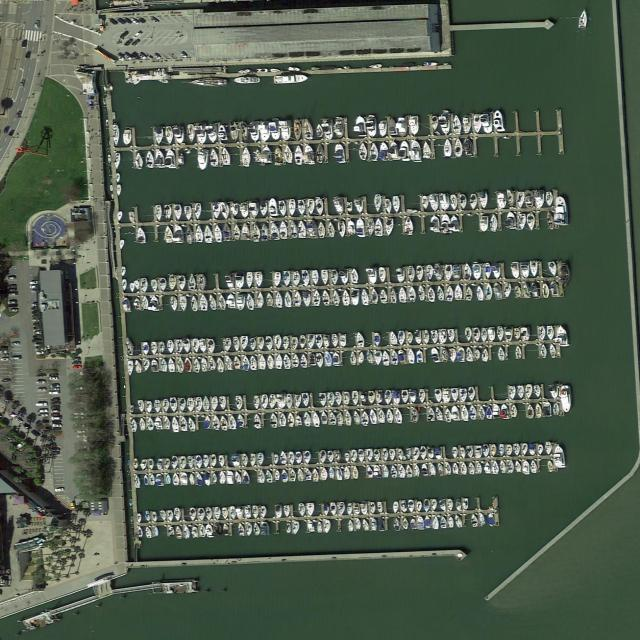ship: (553, 196, 569, 226), (273, 74, 309, 86), (189, 77, 227, 88), (560, 386, 572, 413), (560, 263, 572, 287), (279, 120, 292, 142), (354, 115, 367, 137), (409, 140, 422, 162), (366, 115, 378, 138), (554, 445, 566, 468), (481, 113, 494, 134), (302, 144, 315, 165), (396, 117, 409, 138), (195, 124, 208, 145), (399, 141, 411, 163), (323, 118, 335, 140), (198, 149, 210, 171), (269, 119, 281, 141), (557, 326, 569, 347), (259, 121, 271, 142), (494, 110, 505, 132), (303, 118, 314, 140), (440, 114, 451, 136), (240, 121, 251, 143), (124, 336, 136, 356), (207, 123, 219, 143), (334, 119, 345, 140), (111, 124, 121, 147), (524, 190, 536, 209), (173, 125, 185, 144), (578, 9, 590, 28), (334, 143, 345, 163), (409, 116, 420, 136), (249, 122, 260, 142), (233, 76, 260, 84), (441, 213, 451, 234), (526, 212, 537, 231), (379, 141, 390, 160), (334, 197, 345, 216), (404, 216, 414, 236), (167, 149, 177, 169), (506, 212, 517, 230), (449, 215, 460, 233), (429, 194, 440, 212), (440, 193, 451, 211), (463, 138, 474, 156), (535, 190, 545, 209), (472, 115, 482, 134), (454, 138, 464, 157), (154, 126, 164, 145), (316, 143, 325, 164), (293, 120, 302, 141), (433, 264, 444, 281), (516, 191, 526, 209), (463, 116, 473, 134), (356, 218, 365, 238), (430, 215, 440, 233), (422, 141, 432, 159), (390, 142, 400, 160), (369, 143, 379, 161), (493, 282, 503, 300), (235, 271, 245, 289), (203, 226, 213, 244), (209, 149, 219, 167), (186, 125, 196, 143), (229, 123, 239, 141), (479, 192, 490, 208), (297, 199, 308, 215), (281, 354, 292, 370), (546, 211, 555, 230), (373, 194, 382, 213), (385, 218, 394, 237), (453, 116, 462, 135), (269, 198, 278, 217), (165, 126, 174, 145), (545, 191, 555, 208), (506, 191, 516, 208), (388, 118, 398, 135), (521, 261, 531, 278), (308, 221, 318, 238), (174, 226, 184, 243), (221, 202, 231, 219), (134, 153, 144, 170), (225, 273, 235, 290), (314, 352, 324, 369), (301, 270, 311, 287), (295, 145, 303, 166), (233, 396, 245, 410), (300, 392, 311, 407), (248, 203, 259, 218), (149, 296, 160, 311), (375, 218, 384, 236), (284, 145, 293, 163), (443, 140, 452, 158), (359, 143, 368, 161), (530, 260, 539, 278), (279, 221, 288, 239), (214, 225, 223, 243), (165, 225, 174, 243), (246, 293, 255, 311), (497, 193, 507, 209), (469, 194, 479, 210), (458, 194, 468, 210), (378, 121, 388, 137), (548, 261, 558, 277), (492, 263, 502, 279), (472, 264, 482, 280), (452, 265, 462, 281), (368, 268, 378, 284), (239, 203, 249, 219), (242, 148, 250, 168), (155, 151, 165, 167), (262, 147, 272, 163), (431, 347, 441, 363), (518, 213, 527, 230), (278, 200, 287, 217), (298, 221, 307, 238), (321, 289, 330, 306), (378, 267, 387, 284), (241, 223, 250, 240), (222, 224, 231, 241), (185, 226, 194, 243), (188, 274, 197, 291), (237, 294, 246, 311), (173, 204, 182, 221), (123, 129, 132, 146), (171, 416, 180, 433), (283, 271, 292, 288), (451, 405, 460, 422), (275, 147, 283, 166), (355, 199, 365, 214), (550, 281, 560, 296), (521, 327, 531, 342), (226, 293, 236, 308), (186, 397, 196, 412), (187, 417, 197, 432), (206, 339, 216, 354), (302, 291, 312, 306), (398, 349, 408, 364), (480, 216, 489, 232), (347, 219, 356, 235), (408, 265, 416, 283), (397, 267, 406, 283), (311, 270, 320, 286), (288, 199, 296, 217), (315, 199, 324, 215), (252, 224, 260, 242), (352, 288, 360, 306), (208, 294, 217, 310), (198, 275, 207, 291), (164, 204, 173, 220), (137, 228, 146, 244), (440, 347, 449, 363), (397, 330, 406, 346), (394, 409, 403, 425), (260, 521, 270, 535), (490, 215, 498, 232), (338, 221, 346, 238), (393, 196, 401, 213), (450, 194, 458, 211), (512, 261, 520, 278), (444, 264, 452, 281), (362, 289, 370, 306), (343, 289, 351, 306), (195, 225, 203, 242), (123, 296, 131, 313), (146, 151, 154, 168), (222, 148, 230, 165), (217, 357, 225, 374), (543, 401, 551, 418), (430, 116, 439, 131), (425, 265, 434, 280), (449, 348, 458, 363), (321, 270, 330, 285), (307, 199, 316, 214), (261, 224, 270, 239), (199, 296, 208, 311), (179, 296, 188, 311), (184, 206, 193, 221), (218, 125, 227, 140), (265, 336, 274, 351), (257, 336, 266, 351), (307, 334, 316, 349), (315, 334, 324, 349), (323, 351, 332, 366), (253, 414, 262, 429), (175, 339, 184, 354), (183, 339, 192, 354), (232, 337, 241, 352), (266, 354, 275, 369), (173, 507, 182, 522), (439, 329, 448, 344), (356, 332, 365, 347), (414, 330, 423, 345), (468, 404, 477, 419), (285, 393, 293, 409), (328, 221, 336, 237), (318, 222, 326, 238), (484, 263, 492, 279), (498, 346, 506, 362), (331, 269, 339, 285), (271, 223, 279, 239), (455, 284, 463, 300), (418, 285, 426, 301), (408, 287, 416, 303), (399, 287, 407, 303), (371, 288, 379, 304), (351, 268, 359, 284), (169, 274, 177, 290), (275, 292, 283, 308), (256, 292, 264, 308), (191, 296, 199, 312), (255, 272, 263, 288), (270, 412, 278, 428), (294, 291, 302, 307), (177, 357, 185, 373), (458, 347, 466, 363), (352, 390, 360, 406), (382, 350, 390, 366), (391, 350, 399, 366), (411, 408, 419, 424), (444, 408, 452, 424), (461, 405, 469, 421), (368, 218, 375, 236), (421, 196, 430, 210), (277, 394, 286, 408), (531, 283, 540, 297), (464, 263, 471, 281), (447, 329, 456, 343), (546, 326, 555, 340), (260, 202, 269, 216), (290, 220, 297, 238), (333, 290, 340, 308), (178, 398, 187, 412), (219, 396, 228, 410), (138, 417, 147, 431), (160, 358, 169, 372), (232, 454, 241, 468), (205, 524, 214, 538), (508, 386, 517, 400), (550, 385, 559, 399), (373, 332, 382, 346), (430, 330, 439, 344), (296, 468, 305, 482), (385, 199, 393, 214), (523, 283, 531, 298), (542, 283, 550, 298), (504, 283, 512, 298), (473, 327, 481, 342), (488, 327, 496, 342), (496, 326, 504, 341), (505, 327, 513, 342), (341, 270, 349, 285), (446, 286, 454, 301), (436, 286, 444, 301), (213, 203, 221, 218), (159, 277, 167, 292), (178, 276, 186, 291), (285, 291, 293, 306), (170, 397, 178, 412), (211, 396, 219, 411), (162, 398, 170, 413), (229, 415, 237, 430), (180, 417, 188, 432), (164, 416, 172, 431), (274, 336, 282, 351), (292, 354, 300, 369), (184, 357, 192, 372), (241, 337, 249, 352), (224, 337, 232, 352), (274, 272, 282, 287), (250, 356, 258, 371), (242, 356, 250, 371), (200, 357, 208, 372), (343, 392, 351, 407), (327, 392, 335, 407), (335, 391, 343, 406), (369, 409, 377, 424), (374, 351, 382, 366), (501, 404, 509, 419), (435, 406, 443, 421), (485, 283, 492, 300), (195, 203, 202, 220), (155, 205, 162, 222), (293, 270, 300, 287), (253, 150, 262, 163), (236, 414, 245, 427), (150, 359, 159, 372), (142, 342, 151, 355), (251, 506, 260, 519), (133, 298, 142, 311), (434, 389, 443, 402), (373, 465, 382, 478), (373, 449, 382, 462), (407, 500, 416, 513), (319, 393, 327, 407), (269, 394, 277, 408), (261, 394, 269, 408), (539, 326, 547, 340), (313, 290, 320, 306), (476, 286, 484, 300), (380, 289, 388, 303), (304, 411, 311, 427), (140, 278, 148, 292), (266, 293, 274, 307), (141, 295, 149, 309), (246, 272, 253, 288), (195, 397, 203, 411), (202, 397, 210, 411), (332, 352, 340, 366), (282, 336, 290, 350), (154, 399, 162, 413), (137, 399, 145, 413), (287, 412, 295, 426), (221, 415, 228, 431), (213, 415, 221, 429), (203, 416, 211, 430), (130, 419, 138, 433), (167, 340, 175, 354), (199, 339, 207, 353), (275, 355, 283, 369), (225, 356, 233, 370), (193, 359, 201, 373), (127, 360, 134, 376), (179, 456, 187, 470), (156, 473, 164, 487), (292, 521, 300, 535), (214, 507, 222, 521), (189, 507, 197, 521), (205, 507, 213, 521), (197, 508, 205, 522), (535, 403, 542, 419), (329, 411, 337, 425), (353, 410, 361, 424), (367, 390, 375, 404), (393, 391, 401, 405), (507, 460, 515, 474), (366, 350, 374, 364), (408, 348, 415, 364), (443, 389, 451, 403), (468, 387, 476, 401), (451, 388, 459, 402), (336, 467, 344, 481), (327, 450, 335, 464), (312, 469, 320, 483), (258, 469, 266, 483), (420, 446, 428, 460), (400, 500, 408, 514), (133, 279, 142, 291), (401, 391, 410, 403), (316, 124, 323, 139), (313, 412, 320, 427), (417, 266, 424, 281), (540, 344, 547, 359), (466, 347, 473, 362), (481, 327, 488, 342), (428, 287, 435, 302), (390, 288, 397, 303), (233, 225, 240, 240), (219, 295, 226, 310), (171, 296, 178, 311), (527, 404, 534, 419), (337, 412, 344, 427), (345, 411, 352, 426), (362, 411, 369, 426), (526, 384, 533, 399), (523, 460, 530, 475), (416, 349, 423, 364), (424, 330, 431, 345), (243, 470, 250, 485), (280, 450, 287, 465), (253, 396, 261, 409), (150, 279, 158, 292), (232, 204, 240, 217), (331, 334, 339, 347), (323, 335, 331, 348), (279, 413, 287, 426), (155, 417, 163, 430), (300, 354, 308, 367), (233, 356, 241, 369), (135, 360, 143, 373), (227, 471, 235, 484), (218, 471, 226, 484), (234, 471, 242, 484), (229, 507, 237, 520), (308, 520, 316, 533), (298, 504, 306, 517), (283, 505, 291, 518), (517, 386, 525, 399), (275, 505, 283, 518), (534, 385, 542, 398), (513, 444, 521, 457), (546, 459, 554, 472), (545, 442, 553, 455), (478, 406, 486, 419), (460, 389, 468, 402), (482, 444, 490, 457), (350, 450, 358, 463), (382, 449, 390, 462), (398, 465, 406, 478), (257, 452, 265, 465), (295, 452, 303, 465), (435, 447, 443, 460), (468, 462, 476, 475), (475, 446, 483, 459), (455, 514, 463, 527), (424, 515, 432, 528), (115, 153, 121, 170), (465, 327, 472, 341), (482, 349, 489, 363), (147, 417, 154, 431), (192, 339, 199, 353), (259, 355, 266, 369), (202, 455, 209, 469), (195, 455, 202, 469), (238, 522, 245, 536), (183, 525, 190, 539), (178, 153, 185, 167), (361, 389, 368, 403), (377, 390, 384, 404), (385, 390, 392, 404), (410, 390, 417, 404), (419, 390, 426, 404), (350, 351, 357, 365), (391, 331, 398, 345), (378, 409, 385, 423), (387, 409, 394, 423), (493, 404, 500, 418), (266, 470, 273, 484), (282, 469, 289, 483), (304, 450, 311, 464), (406, 465, 413, 479), (393, 518, 400, 532), (294, 395, 302, 407), (249, 339, 257, 351), (172, 473, 180, 485), (236, 507, 244, 519), (360, 503, 368, 515), (353, 503, 361, 515), (160, 510, 168, 522), (529, 444, 537, 456), (358, 450, 366, 462), (404, 448, 412, 460), (413, 448, 421, 460), (451, 447, 459, 459), (466, 446, 474, 458), (455, 499, 463, 511), (514, 328, 521, 341), (465, 287, 472, 300), (146, 401, 153, 414), (210, 357, 217, 370), (150, 342, 157, 355), (181, 472, 188, 485), (187, 456, 194, 469), (210, 454, 217, 467), (242, 454, 249, 467), (250, 454, 257, 467), (171, 456, 178, 469), (362, 519, 369, 532), (223, 523, 230, 536), (253, 522, 260, 535), (324, 520, 331, 533), (330, 503, 337, 516), (222, 507, 229, 520), (145, 526, 152, 539), (175, 526, 182, 539), (157, 78, 170, 85), (321, 411, 328, 424), (498, 444, 505, 457), (428, 408, 435, 421), (492, 461, 499, 474), (321, 468, 328, 481), (352, 466, 359, 479), (366, 449, 373, 462), (260, 506, 267, 519), (290, 469, 297, 482), (305, 468, 312, 481), (471, 514, 478, 527), (422, 463, 429, 476), (445, 462, 452, 475), (402, 517, 409, 530), (393, 501, 400, 514), (424, 499, 431, 512), (550, 344, 556, 359), (169, 357, 175, 372), (418, 515, 424, 530), (515, 285, 522, 297), (159, 342, 166, 354), (197, 473, 203, 487), (219, 455, 226, 467), (134, 475, 140, 489), (246, 523, 253, 535), (346, 503, 353, 515), (355, 518, 362, 530), (347, 519, 354, 531), (199, 525, 206, 537), (285, 522, 292, 534), (309, 354, 316, 366), (307, 504, 314, 516), (490, 444, 497, 456), (506, 445, 513, 457), (485, 461, 492, 473), (344, 467, 351, 479), (367, 466, 374, 478), (397, 449, 404, 461), (289, 451, 295, 465), (320, 450, 326, 464), (476, 462, 483, 474), (428, 447, 435, 459), (437, 463, 444, 475), (377, 502, 384, 514), (416, 501, 423, 513), (434, 516, 440, 530), (439, 499, 446, 511), (447, 499, 454, 511), (440, 517, 447, 529), (140, 460, 148, 470), (423, 62, 439, 67), (292, 337, 298, 350), (339, 502, 345, 515), (500, 460, 506, 473), (516, 460, 522, 473), (531, 460, 537, 473), (340, 334, 346, 347), (511, 405, 517, 418), (391, 465, 397, 478), (488, 514, 494, 527), (461, 462, 467, 475), (474, 349, 481, 360), (346, 202, 353, 213), (116, 185, 123, 196), (204, 476, 211, 487), (148, 459, 155, 470), (152, 511, 159, 522), (134, 344, 141, 355), (429, 464, 436, 475), (479, 514, 486, 525), (516, 346, 522, 358), (122, 279, 128, 291), (144, 359, 150, 371), (150, 474, 156, 486), (168, 510, 174, 522), (288, 66, 300, 72), (167, 527, 175, 536), (522, 444, 528, 456), (553, 403, 559, 415), (359, 352, 365, 364), (407, 332, 413, 344), (486, 407, 492, 419), (383, 466, 389, 478), (389, 449, 395, 461), (329, 467, 335, 479), (370, 502, 376, 514), (463, 498, 469, 510), (414, 465, 420, 477), (460, 447, 466, 459), (372, 518, 378, 530), (432, 499, 438, 511), (116, 211, 123, 221), (129, 212, 135, 223), (115, 172, 121, 183), (296, 415, 302, 426), (165, 459, 171, 470), (157, 459, 163, 470), (133, 458, 139, 469), (317, 522, 323, 533), (323, 504, 329, 515), (145, 511, 151, 522), (192, 527, 198, 538), (121, 266, 127, 277), (273, 454, 279, 465), (274, 470, 280, 481), (336, 452, 342, 463), (453, 463, 459, 474), (119, 240, 126, 249), (406, 208, 418, 213), (344, 453, 350, 463), (410, 519, 416, 529), (237, 69, 251, 73), (190, 474, 195, 485), (212, 473, 217, 484), (449, 517, 454, 528), (129, 283, 135, 292), (369, 64, 382, 68), (144, 475, 149, 485), (138, 527, 143, 537), (137, 513, 142, 523), (258, 68, 268, 73), (270, 68, 280, 73), (538, 445, 543, 455), (156, 68, 162, 76), (166, 475, 171, 484), (154, 527, 159, 536), (107, 154, 112, 163), (161, 68, 167, 75), (109, 185, 114, 191), (443, 110, 449, 113)
small-vehicle: (132, 31, 143, 39), (137, 52, 148, 60), (124, 38, 134, 46), (123, 17, 132, 25), (120, 31, 129, 39), (23, 422, 32, 430), (31, 429, 40, 437), (131, 53, 140, 61), (123, 53, 132, 61), (150, 17, 160, 24), (130, 18, 140, 25), (109, 18, 119, 25), (8, 412, 18, 419), (152, 53, 162, 60), (115, 54, 125, 61), (131, 39, 141, 46), (36, 402, 49, 407), (15, 110, 23, 118), (138, 17, 147, 24), (6, 288, 18, 293), (117, 18, 125, 25), (8, 129, 16, 136), (3, 125, 10, 133), (15, 417, 23, 424), (180, 51, 188, 58), (30, 280, 40, 285), (19, 80, 26, 87), (25, 51, 32, 58), (22, 40, 28, 48), (34, 342, 43, 347), (54, 488, 65, 492), (38, 413, 49, 417), (72, 365, 83, 369), (35, 380, 46, 384), (49, 383, 60, 387), (50, 402, 61, 406), (34, 21, 40, 28), (70, 502, 76, 509), (7, 284, 17, 288), (30, 285, 40, 289), (8, 304, 18, 308), (34, 347, 44, 351), (50, 447, 60, 451), (52, 420, 62, 424), (72, 361, 82, 365), (49, 391, 59, 395), (51, 405, 61, 409), (51, 398, 61, 402), (38, 409, 48, 413), (7, 276, 16, 280), (6, 293, 18, 296), (31, 289, 40, 293), (7, 300, 16, 304), (33, 338, 42, 342), (53, 427, 62, 431), (51, 409, 60, 413), (8, 309, 19, 312), (51, 424, 62, 427), (36, 374, 47, 377), (49, 388, 60, 391), (36, 351, 44, 355), (11, 342, 19, 346), (51, 451, 59, 455), (73, 357, 81, 361), (31, 303, 41, 306), (11, 357, 21, 360), (51, 417, 61, 420), (49, 373, 59, 376), (49, 377, 59, 380), (51, 413, 60, 416), (37, 388, 46, 391), (0, 358, 8, 361)
